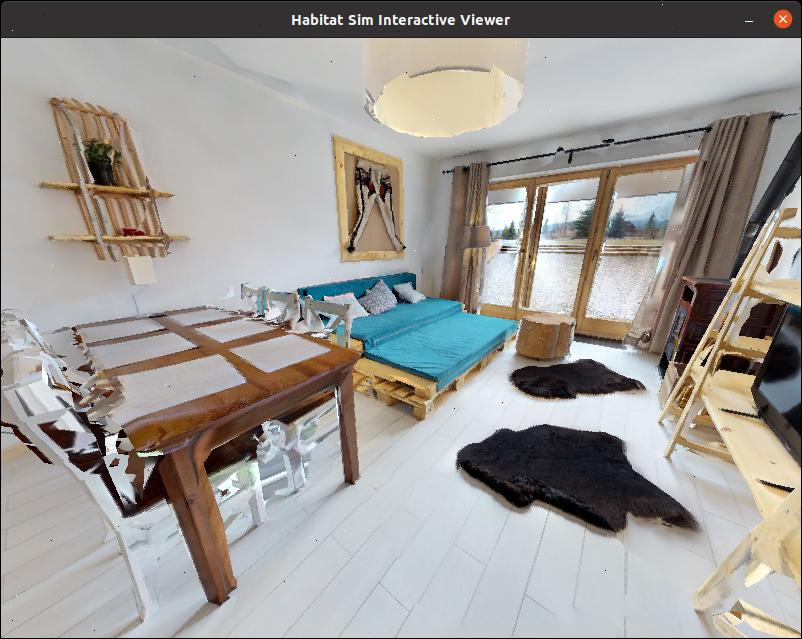chair: (0, 337, 300, 628)
sofa: (287, 271, 530, 416)
table: (45, 295, 408, 615)
